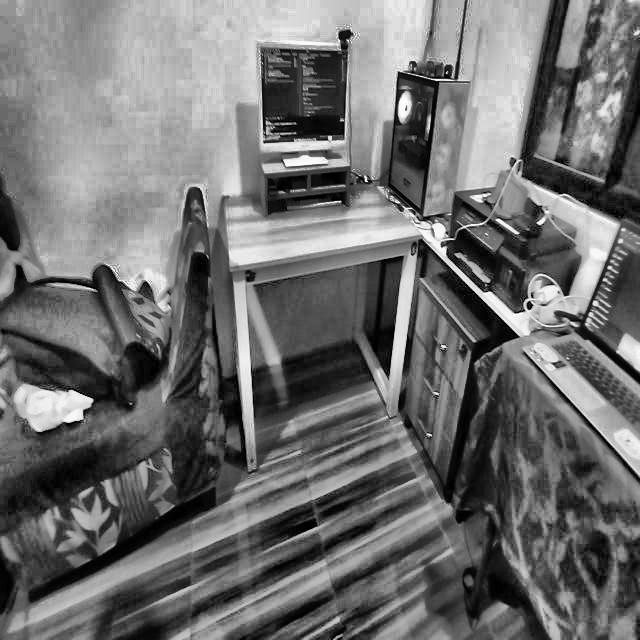mesa: (217, 162, 424, 456)
